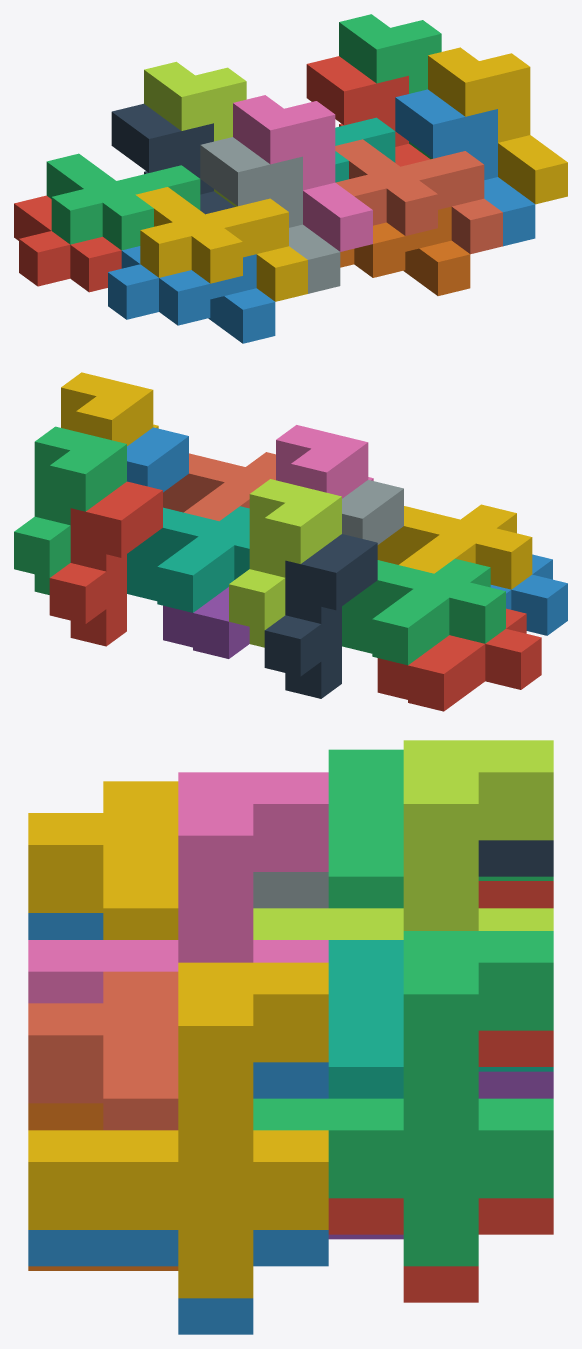
The model's file is tiling.obj.
3 renders of one model, top to bottom at view 1: azimuth 30°, elevation 25°; view 2: azimuth 150°, elevation 25°; view 3: azimuth 270°, elevation 25°, orthographic. The views are drawn at different scales.
Parts seen in each view (by area): view 1: copy_1_domain_4, copy_1_domain_8, copy_2_domain_4, copy_2_domain_8, copy_1_domain_2, copy_1_domain_3, copy_2_domain_2, copy_2_domain_6, copy_1_domain_6, copy_1_domain_1, copy_2_domain_3, copy_2_domain_7 (+3 smaller); view 2: copy_1_domain_3, copy_2_domain_1, copy_2_domain_5, copy_2_domain_3, copy_2_domain_7, copy_1_domain_7, copy_1_domain_1, copy_1_domain_4, copy_2_domain_8, copy_2_domain_4, copy_1_domain_8, copy_1_domain_5 (+3 smaller); view 3: copy_2_domain_8, copy_2_domain_7, copy_2_domain_4, copy_2_domain_3, copy_1_domain_8, copy_1_domain_4, copy_2_domain_6, copy_1_domain_3, copy_1_domain_7, copy_2_domain_5, copy_1_domain_6, copy_2_domain_1 (+4 smaller).
Boxes of the visible parts, box(x1,y1,x2,y2) form: copy_1_domain_4: box(135, 187, 307, 301); copy_1_domain_8: box(335, 139, 502, 254); copy_2_domain_4: box(233, 95, 372, 251); copy_2_domain_8: box(428, 47, 567, 204); copy_1_domain_2: box(108, 246, 275, 343); copy_1_domain_3: box(46, 153, 200, 250); copy_2_domain_2: box(200, 137, 340, 293); copy_2_domain_6: box(395, 89, 535, 246); copy_1_domain_6: box(340, 206, 470, 295); copy_1_domain_1: box(14, 195, 121, 292); copy_2_domain_3: box(144, 61, 246, 206); copy_2_domain_7: box(339, 14, 441, 159); copy_1_domain_3: box(342, 558, 505, 665); copy_2_domain_1: box(264, 534, 377, 698); copy_2_domain_5: box(49, 481, 162, 646); copy_2_domain_3: box(229, 479, 341, 647); copy_2_domain_7: box(14, 426, 126, 594); copy_1_domain_7: box(127, 506, 249, 612); copy_1_domain_1: box(377, 608, 541, 711); copy_1_domain_4: box(377, 504, 532, 589); copy_2_domain_8: box(61, 372, 158, 445); copy_2_domain_4: box(276, 425, 373, 498); copy_1_domain_8: box(163, 452, 275, 521); copy_1_domain_5: box(163, 587, 249, 658); copy_2_domain_8: box(28, 962, 328, 1298); copy_2_domain_7: box(253, 931, 553, 1266); copy_2_domain_4: box(28, 772, 328, 1003); copy_2_domain_3: box(253, 740, 553, 939); copy_1_domain_8: box(28, 971, 178, 1130); copy_1_domain_4: box(28, 781, 178, 939); copy_2_domain_6: box(28, 1062, 328, 1334); copy_1_domain_3: box(328, 749, 553, 908); copy_1_domain_7: box(328, 940, 553, 1098); copy_2_domain_5: box(328, 1030, 553, 1302); copy_1_domain_6: box(28, 1103, 178, 1270); copy_2_domain_1: box(478, 840, 553, 876).
Size of the model in its own units: 14 by 5 by 7.
